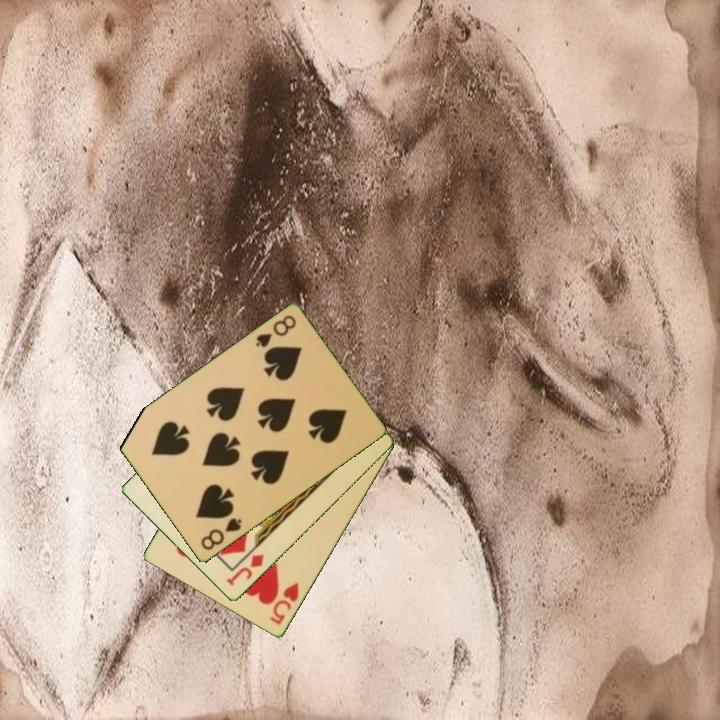5h: (266, 579, 302, 628)
8s: (197, 514, 245, 554), (252, 312, 299, 351)
Jd: (223, 551, 267, 589)
